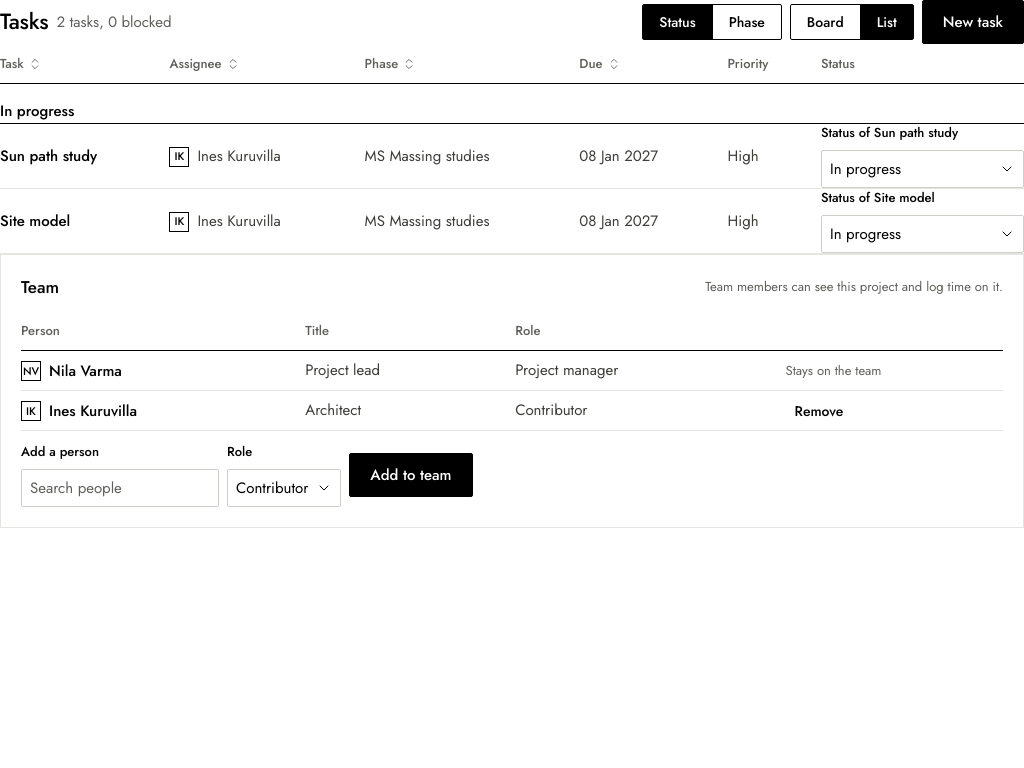
Test case: live task sheet, round 2 › logs time on this task with its task_id
Expected: the text "2 tasks, 0 blocked" is shown, [56,11,172,33]
Expected: the text "North elevation" is not shown
Click the column heading "Sun path study".
click(79, 157)  # box [0,124,157,189]
(page scrolled)
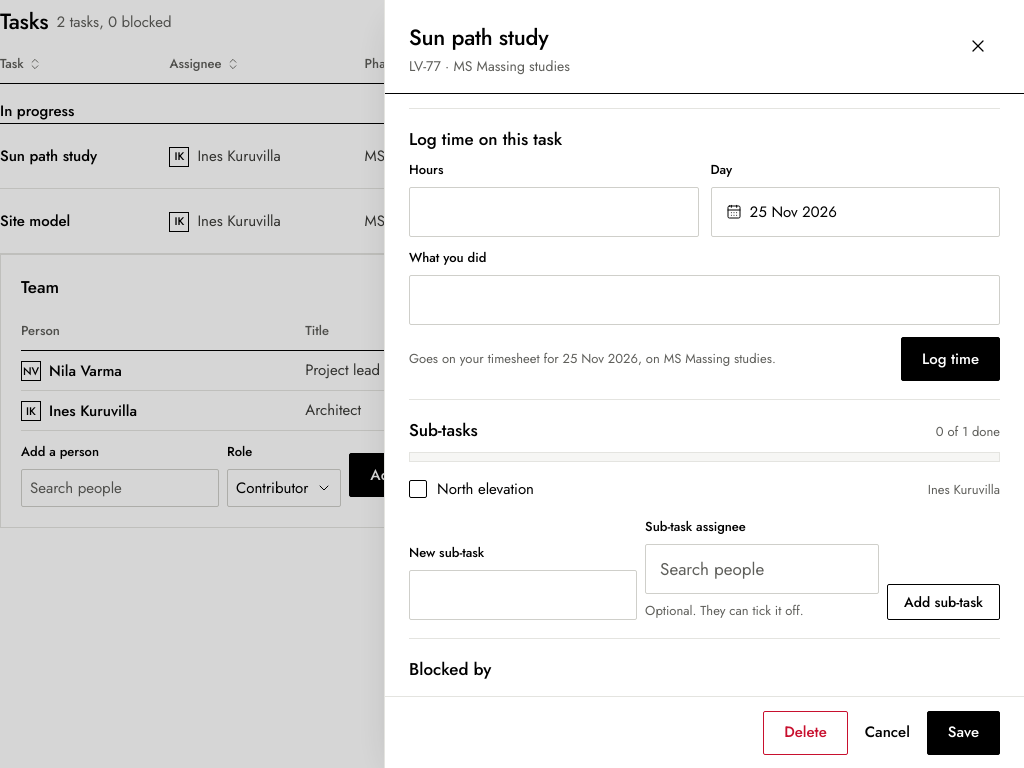
Expected: the heading "Sub-tasks" is shown, [409,418,478,442]
Click the button "Log time".
click(950, 359)  # box [901,337,1000,381]
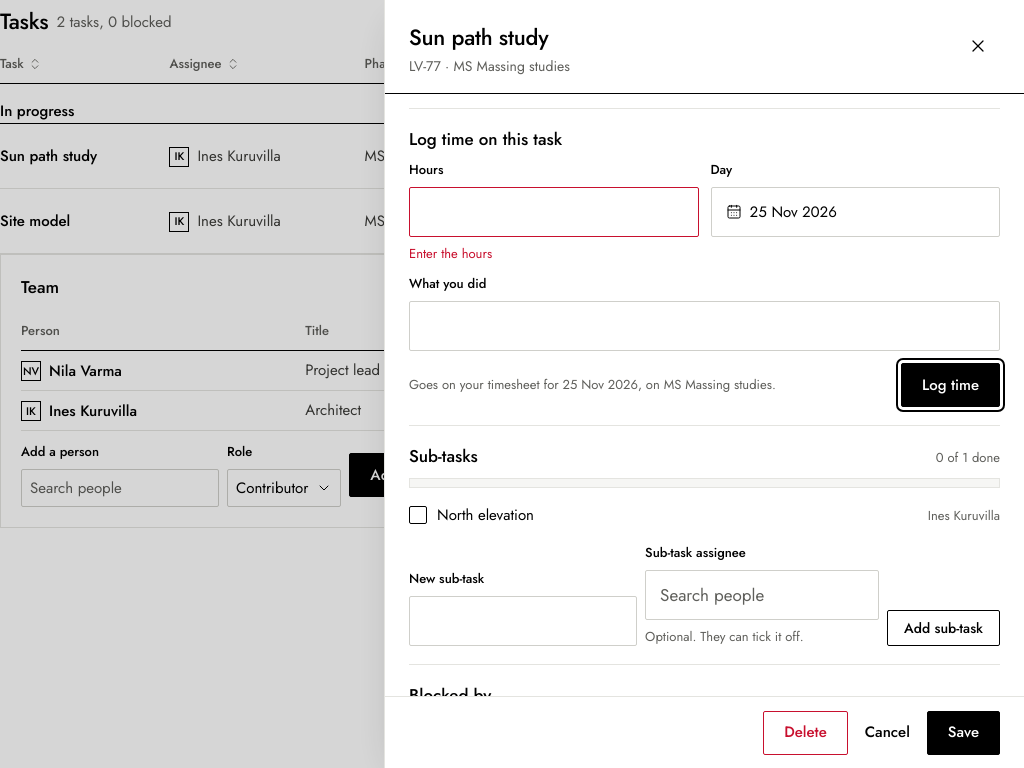
Expected: the text "Enter the hours" is shown, [409,244,492,263]
Type "1.5" into the field labelled "Hours".
click(554, 212); type("1.5")  # box [424,188,684,236]
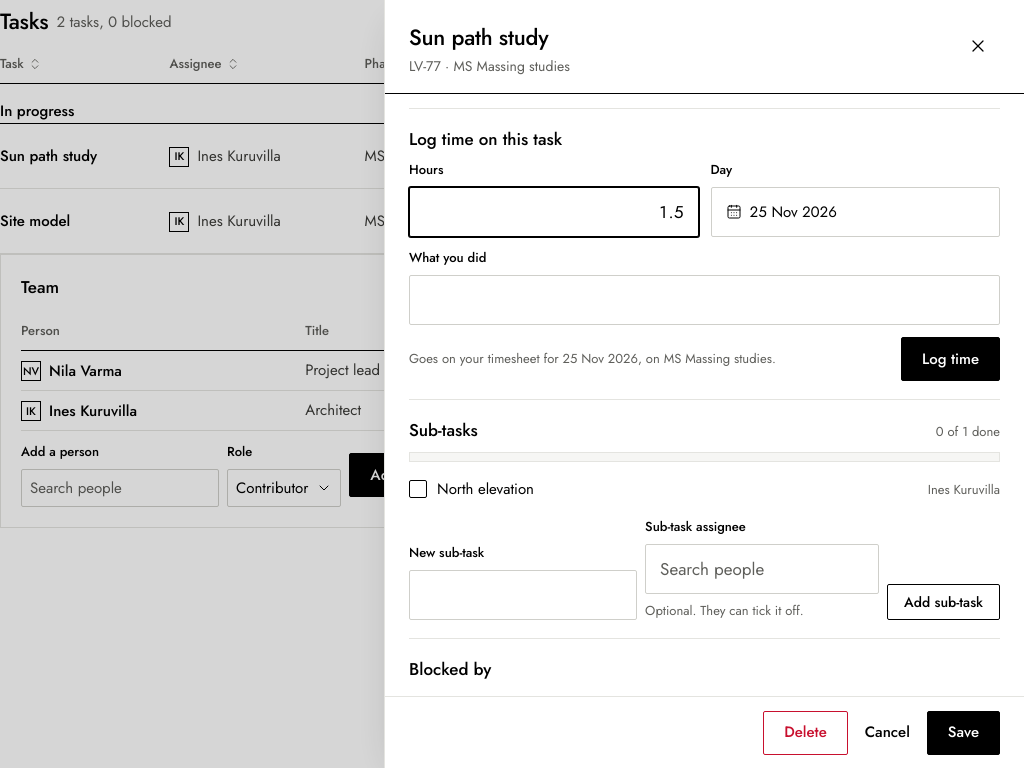
Type "Shadow diagrams" into the field labelled "What you did".
click(704, 300); type("Shadow diagrams")  # box [424,276,985,324]
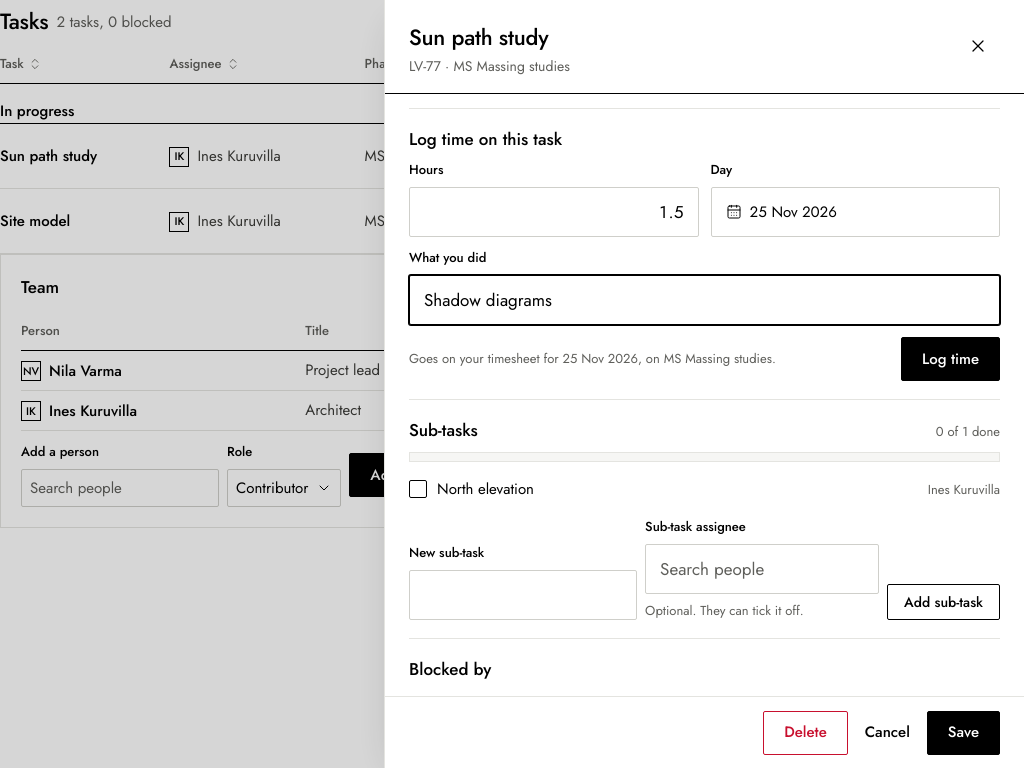
Click the button "Log time".
click(950, 359)  # box [901,337,1000,381]
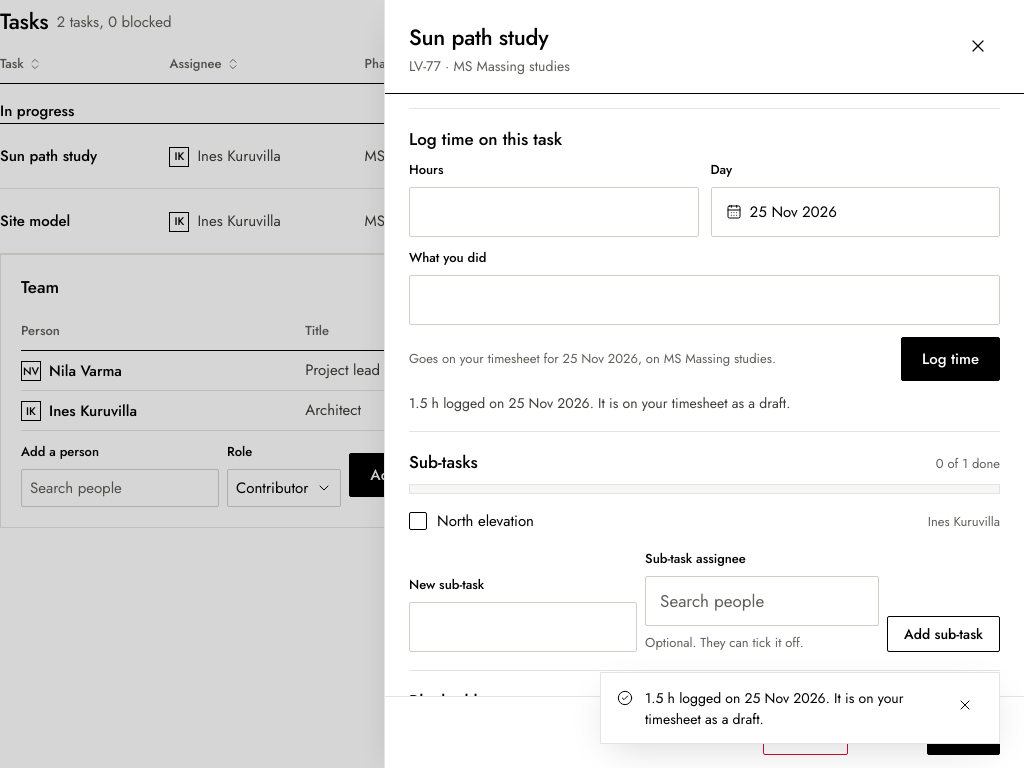
Expected: the text "1.5 h logged on 25 Nov 2026. It is on your timesheet as a draft." below "Goes on your timesheet" is shown, [409,393,790,413]
